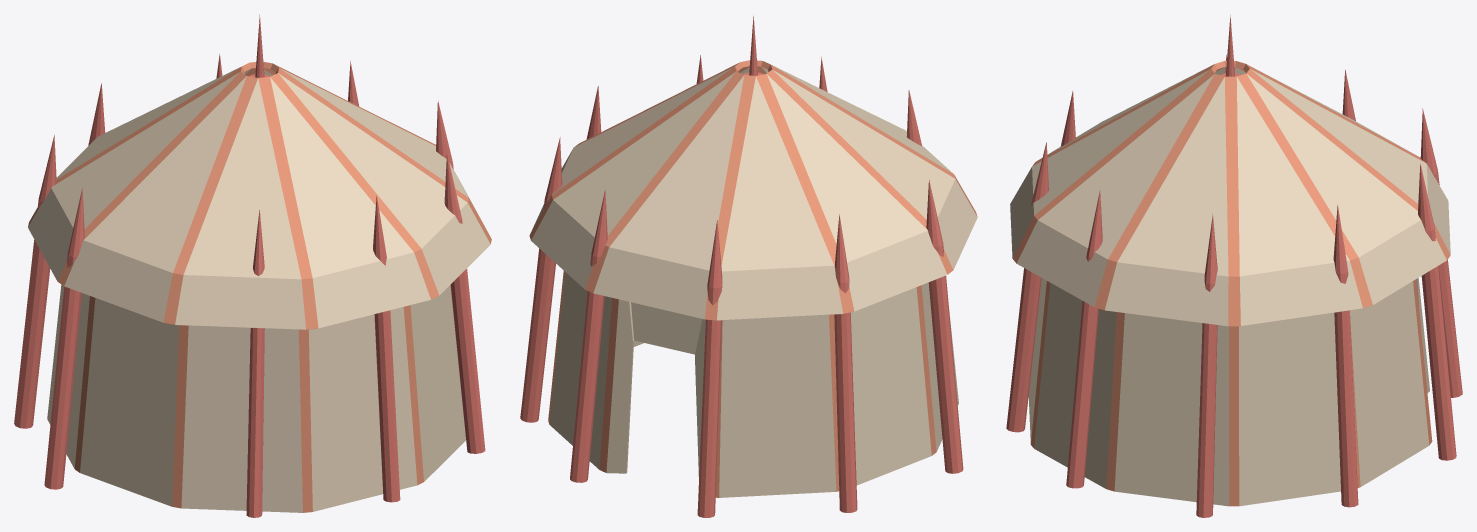
The model's file is Tent.fbx.
3 views of the same model, side by side, from view 1: azimuth 30°, elevation 25°; view 2: azimuth 150°, elevation 25°; view 3: azimuth 270°, elevation 25° (orthographic). The views are drawn at different scales.
Parts seen in each view (by area): view 1: Walls; view 2: Walls; view 3: Walls.
Part boxes in pixels (x1,y1,x2,y2): Walls: [14, 15, 491, 517]; Walls: [520, 16, 977, 517]; Walls: [1006, 15, 1462, 517].
Bounding box in the file's own units: 260 × 250 × 249.
